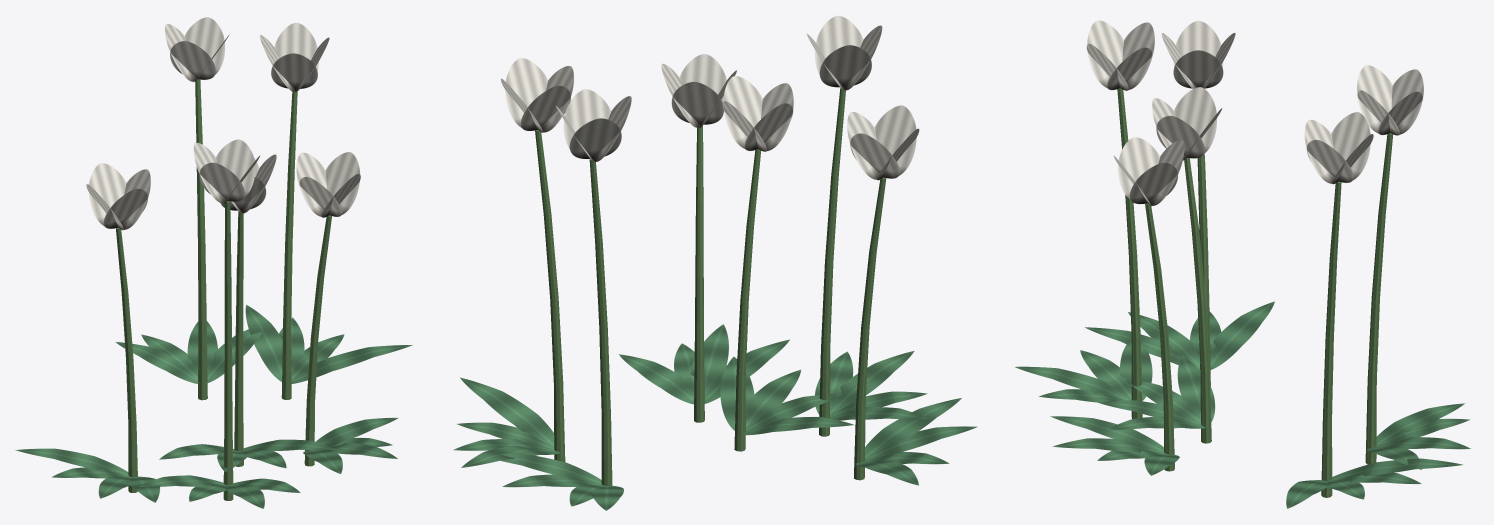
The model's file is arctic_poppy_v01.glb.
The picture shows the model from 3 angles, left to right: view 1: azimuth 30°, elevation 25°; view 2: azimuth 150°, elevation 25°; view 3: azimuth 270°, elevation 25°; orthographic projection. The views are drawn at different scales.
Parts seen in each view (by area): view 1: arctic_poppy_v01; view 2: arctic_poppy_v01; view 3: arctic_poppy_v01.
Boxes of the visible parts, x1,y1,x2,y2 form: arctic_poppy_v01: (15,17,412,508); arctic_poppy_v01: (453,15,977,510); arctic_poppy_v01: (1015,20,1470,508).
Bounding box in the file's own units: 0.3056 × 0.2556 × 0.2806.
Materials: 3 (3 with a texture image).
